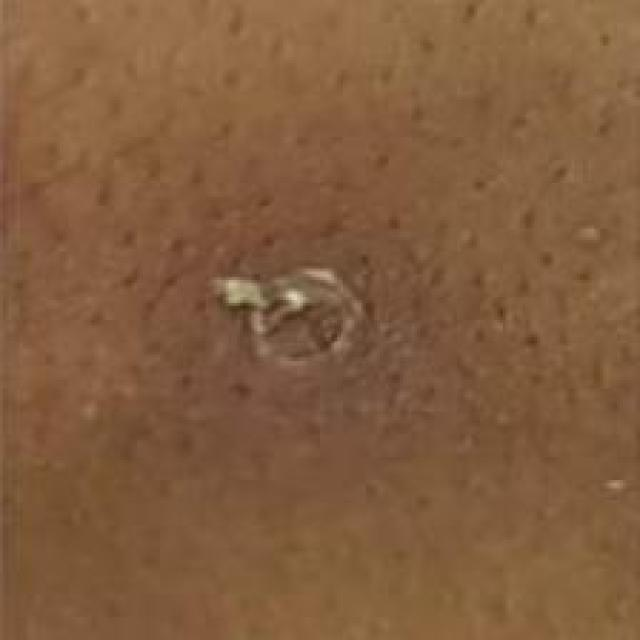monkeypox: (114, 155, 586, 570)
